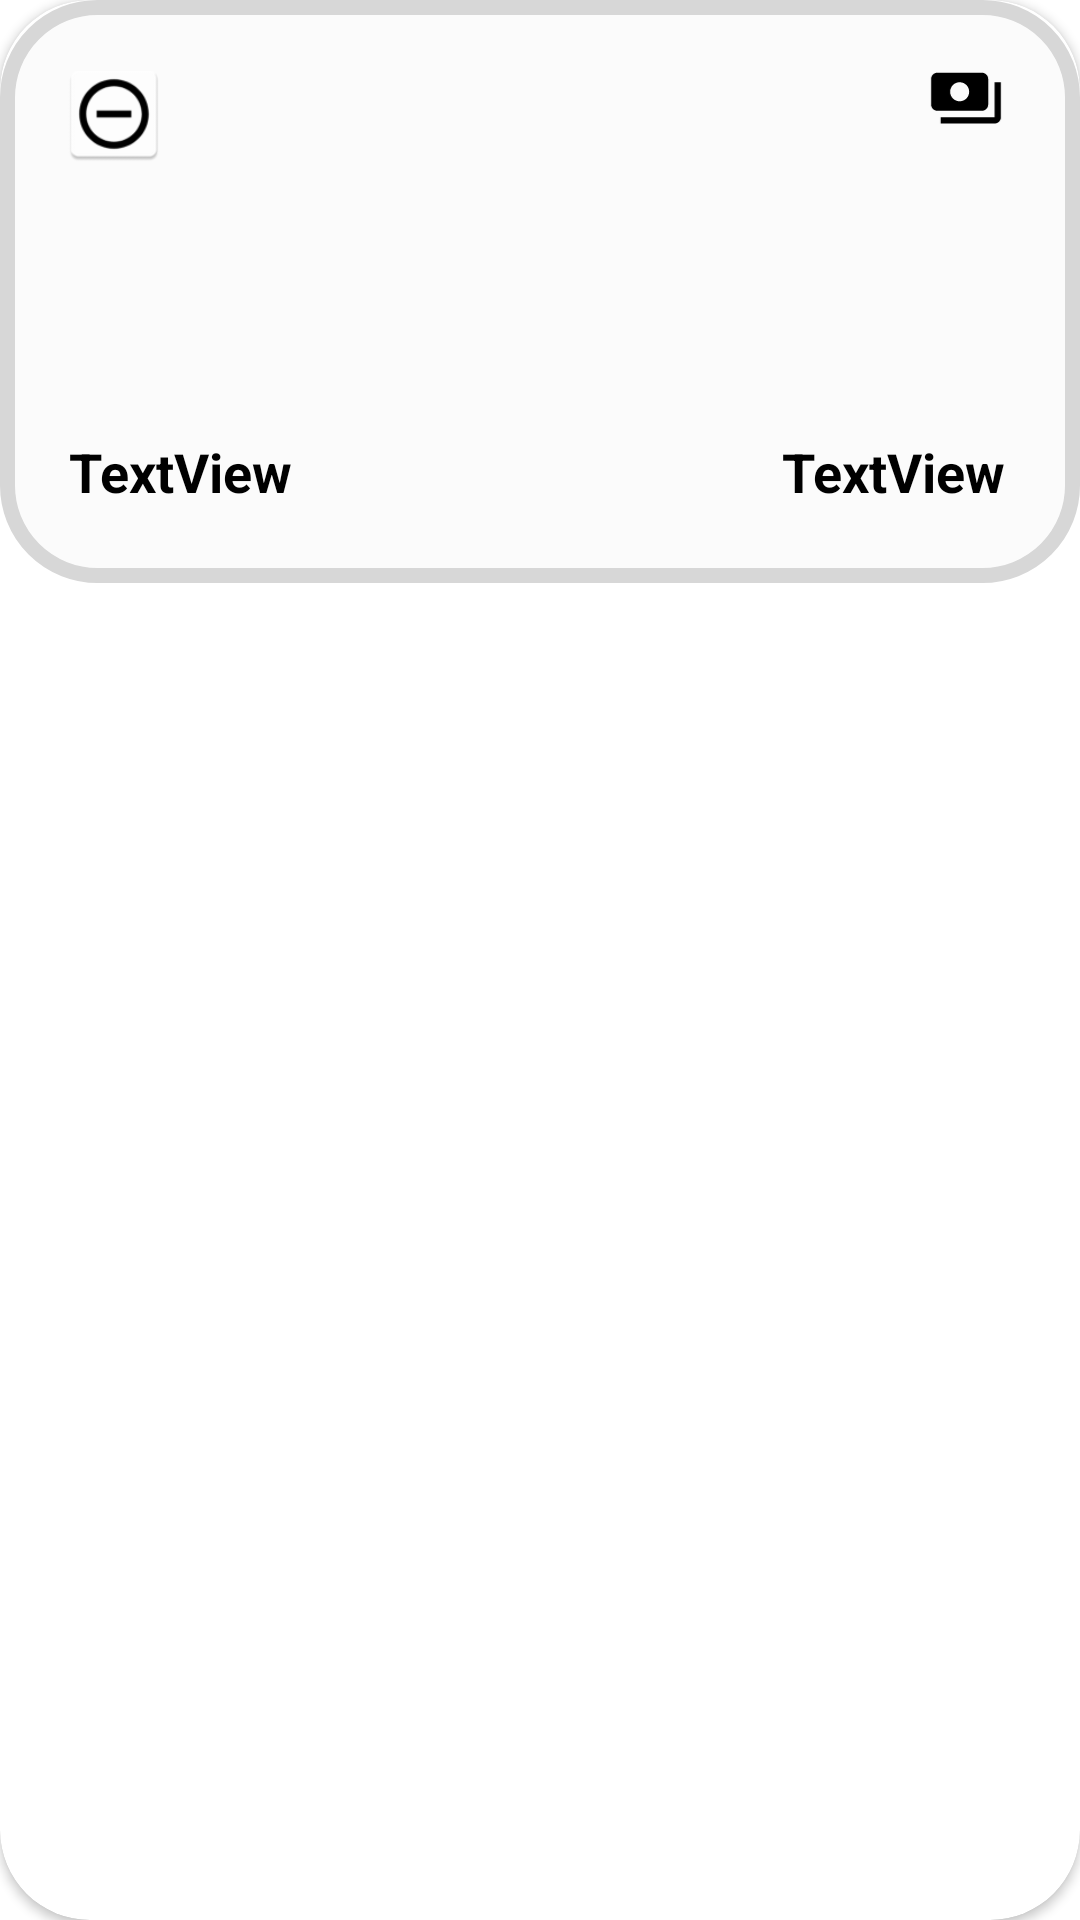

Named icons in this screenshot (1080w x 1920h) and their bounding boxes, bbox=[x1, y1, x2, y2]:
payment: bbox=[931, 72, 1001, 124]
